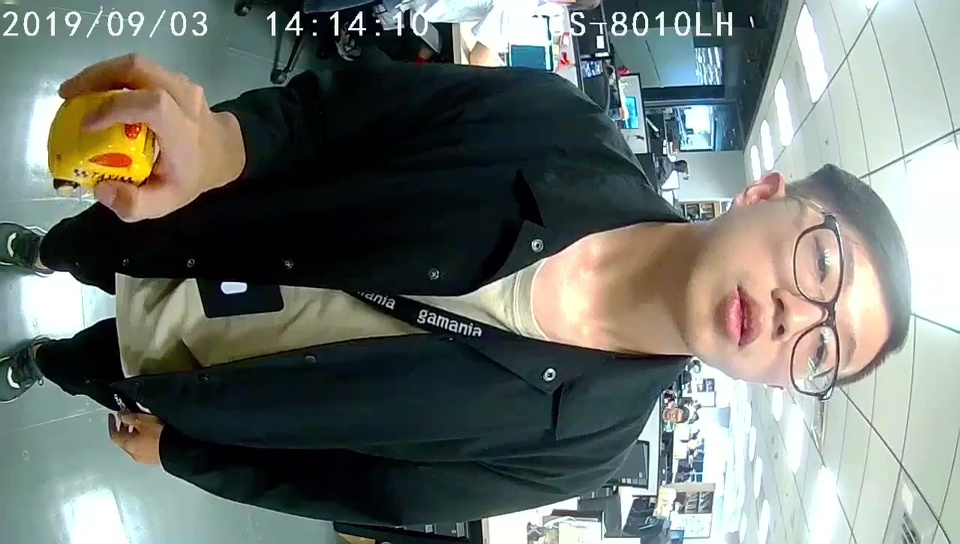car: (44, 87, 158, 191)
